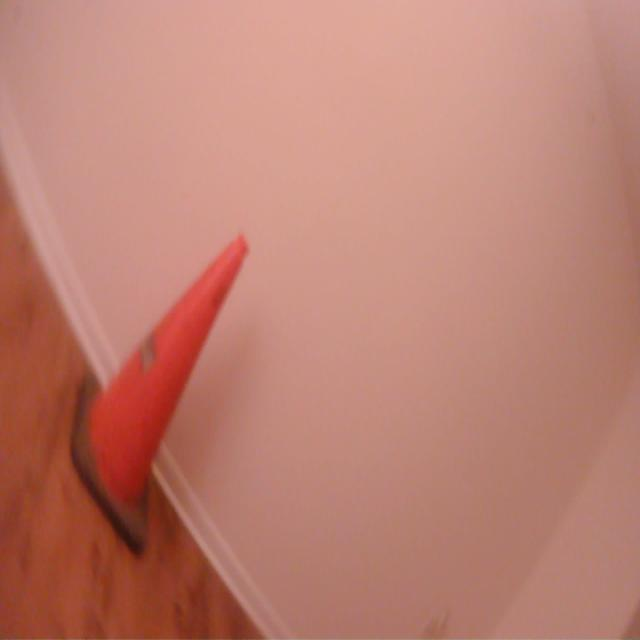traffic cone: (66, 223, 257, 563)
